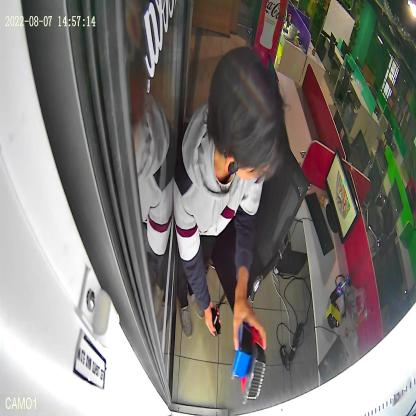blue: (231, 321, 252, 381)
red: (240, 326, 266, 404)
